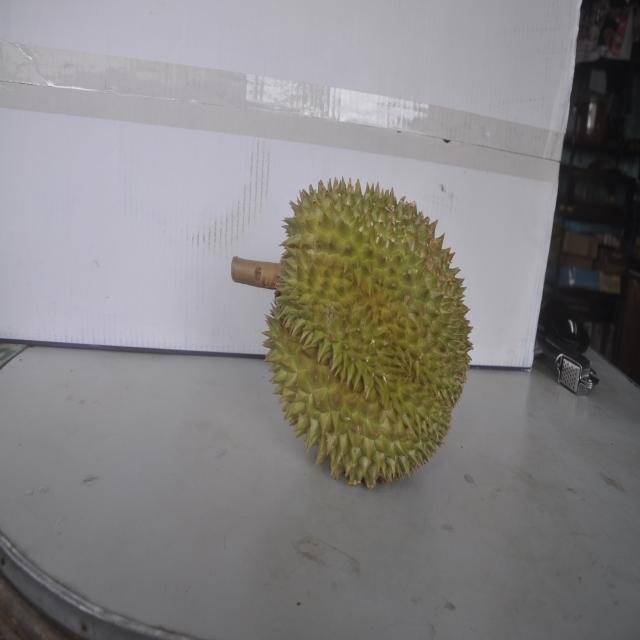mature: (257, 172, 468, 488)
